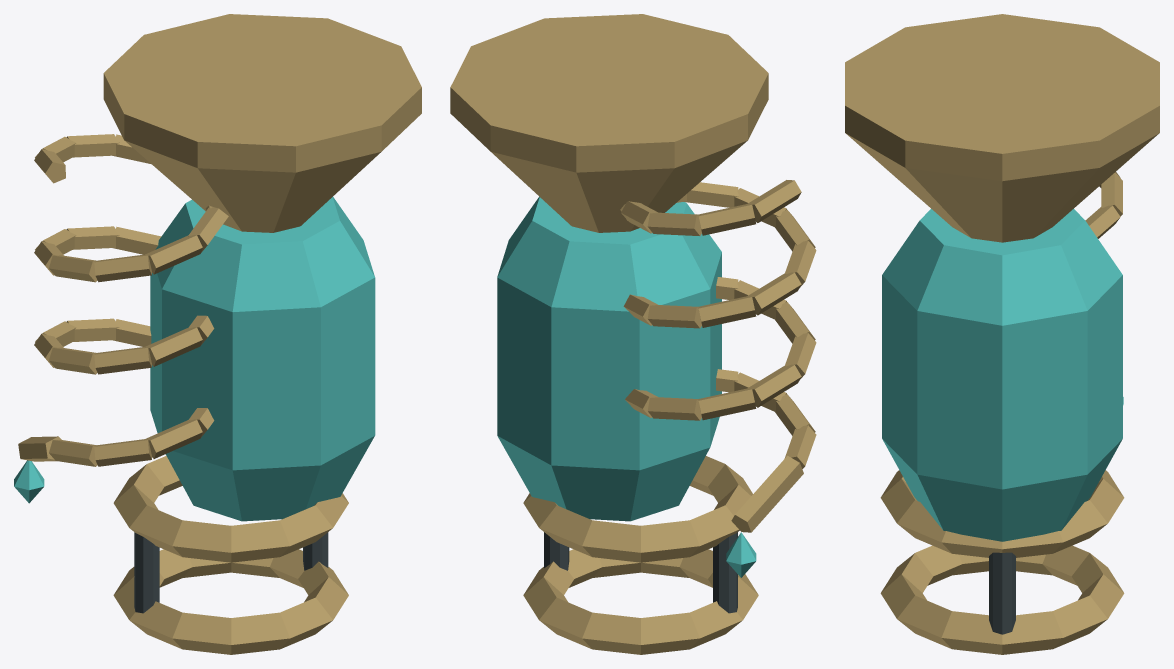
Rendered from Arsenal_SteamStill.fbx.
3 views of the same model, side by side, from view 1: azimuth 30°, elevation 25°; view 2: azimuth 150°, elevation 25°; view 3: azimuth 270°, elevation 25° (orthographic). The views are drawn at different scales.
Parts seen in each view (by area): view 1: Arsenal_SteamStill; view 2: Arsenal_SteamStill; view 3: Arsenal_SteamStill.
Boxes of the visible parts, x1,y1,x2,y2 form: Arsenal_SteamStill: [14, 14, 421, 654]; Arsenal_SteamStill: [450, 14, 816, 654]; Arsenal_SteamStill: [845, 14, 1159, 654].
Size of the model in its own units: 0.2726 by 0.399 by 0.2092.
